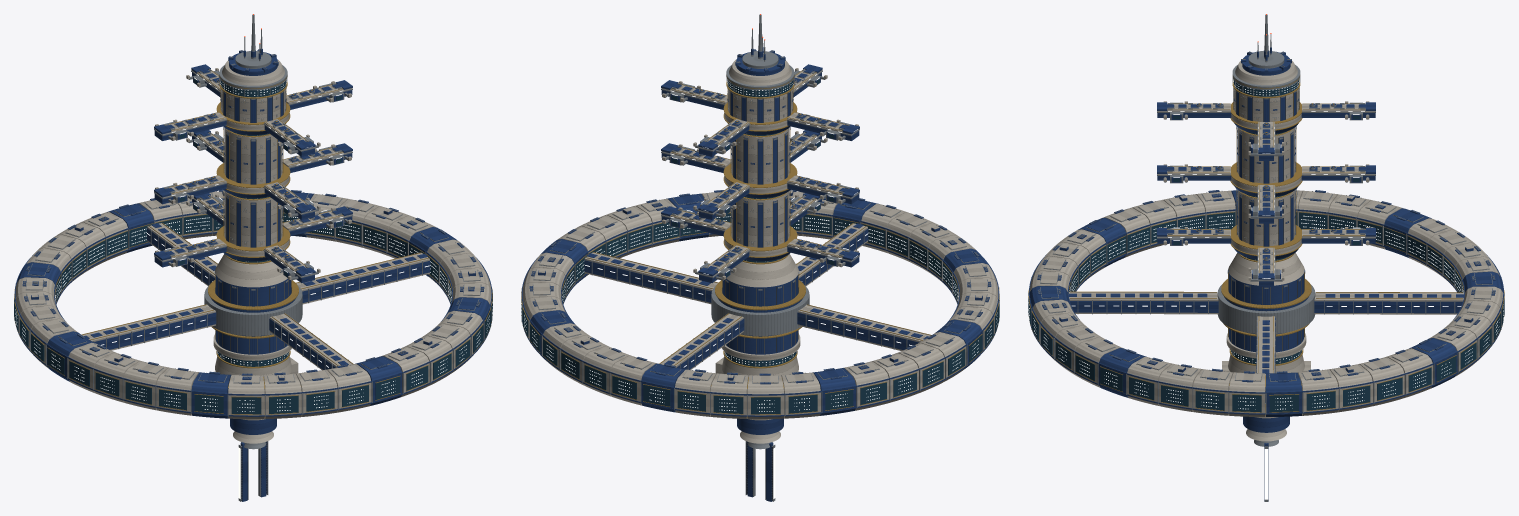
Rendered from meridian_helios_embassy.glb.
3 views of the same model, side by side, from view 1: azimuth 30°, elevation 25°; view 2: azimuth 150°, elevation 25°; view 3: azimuth 270°, elevation 25° (orthographic).
Visible parts, largest first — view 1: Habitat_Meridian_Pearl, Habitat_Meridian_Navy, Tower_Meridian_Navy, Tower_Meridian_Pearl, Habitat_Meridian_Glass, Habitat_Meridian_Silver, Tower_Meridian_Silver, Tower_Meridian_Champagne, Habitat_Meridian_Champagne, Tower_Meridian_Glass, Detail_fixed_Meridian_Silver, Habitat_Meridian_CoolWindows (+2 smaller); view 2: Habitat_Meridian_Pearl, Habitat_Meridian_Navy, Tower_Meridian_Navy, Tower_Meridian_Pearl, Habitat_Meridian_Glass, Habitat_Meridian_Silver, Tower_Meridian_Silver, Tower_Meridian_Champagne, Habitat_Meridian_Champagne, Tower_Meridian_Glass, Detail_fixed_Meridian_Silver, Habitat_Meridian_CoolWindows (+2 smaller); view 3: Habitat_Meridian_Pearl, Habitat_Meridian_Navy, Tower_Meridian_Pearl, Tower_Meridian_Navy, Habitat_Meridian_Glass, Habitat_Meridian_Silver, Tower_Meridian_Champagne, Tower_Meridian_Silver, Habitat_Meridian_Champagne, Detail_fixed_Meridian_Silver, Tower_Meridian_Glass, Habitat_Meridian_CoolWindows (+2 smaller).
Part boxes in pixels (x1,y1,x2,y2): Habitat_Meridian_Pearl: (15,190,491,419); Habitat_Meridian_Navy: (14,189,492,418); Tower_Meridian_Navy: (154,49,352,501); Tower_Meridian_Pearl: (155,59,352,443); Habitat_Meridian_Glass: (14,213,492,414); Habitat_Meridian_Silver: (14,190,492,416); Tower_Meridian_Silver: (154,14,352,501); Tower_Meridian_Champagne: (169,70,342,368); Habitat_Meridian_Champagne: (14,212,492,417); Tower_Meridian_Glass: (179,79,341,366); Detail_fixed_Meridian_Silver: (164,68,342,270); Habitat_Meridian_CoolWindows: (15,216,492,411); Habitat_Meridian_Pearl: (522,190,998,419); Habitat_Meridian_Navy: (521,189,999,416); Tower_Meridian_Navy: (661,47,859,501); Tower_Meridian_Pearl: (661,59,858,443); Habitat_Meridian_Glass: (521,213,999,414); Habitat_Meridian_Silver: (521,190,999,416); Tower_Meridian_Silver: (661,14,859,501); Tower_Meridian_Champagne: (671,70,844,368); Habitat_Meridian_Champagne: (521,212,999,417); Tower_Meridian_Glass: (672,79,834,366); Detail_fixed_Meridian_Silver: (671,68,849,270); Habitat_Meridian_CoolWindows: (521,216,997,411); Habitat_Meridian_Pearl: (1029,190,1503,416); Habitat_Meridian_Navy: (1029,190,1503,416); Tower_Meridian_Pearl: (1157,61,1375,441); Tower_Meridian_Navy: (1157,47,1375,501); Habitat_Meridian_Glass: (1028,212,1504,412); Habitat_Meridian_Silver: (1028,190,1504,414); Tower_Meridian_Champagne: (1167,77,1365,365); Tower_Meridian_Silver: (1157,14,1375,501); Habitat_Meridian_Champagne: (1028,201,1504,415); Detail_fixed_Meridian_Silver: (1168,89,1364,273); Tower_Meridian_Glass: (1173,80,1359,364); Habitat_Meridian_CoolWindows: (1028,215,1503,409).
Size of the model in its own units: 1809 by 2016 by 1809.
10 materials, 5 textured.
